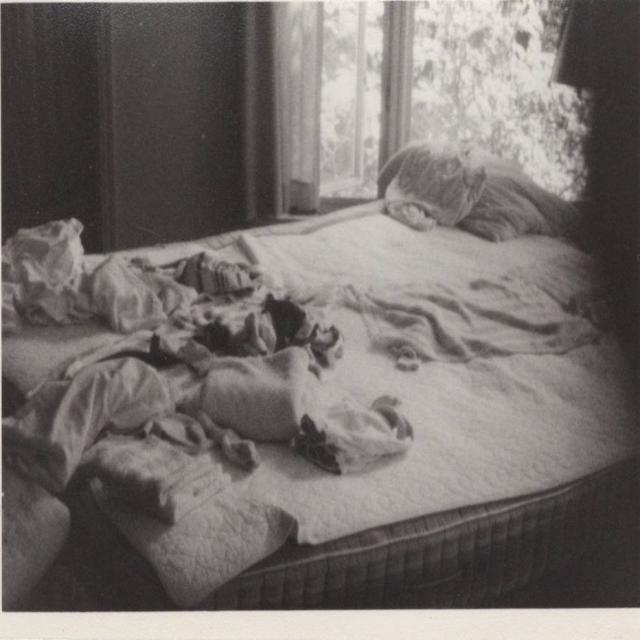bed: (12, 151, 640, 604)
